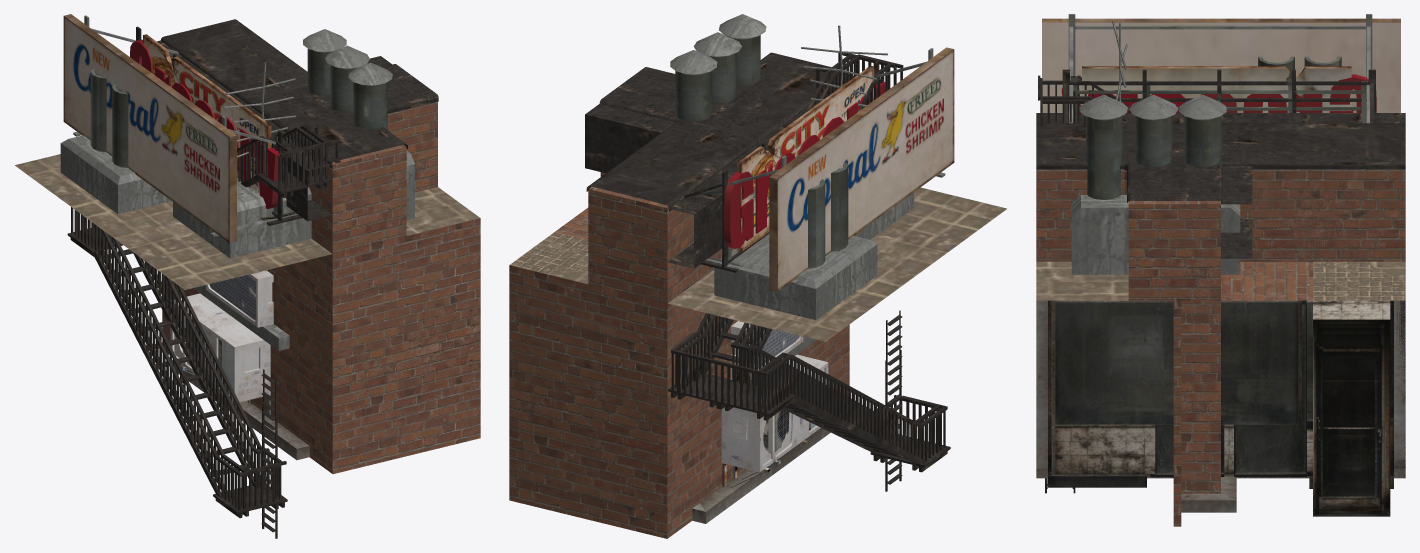
The model's file is building.glb.
The picture shows the model from 3 angles, left to right: view 1: azimuth 30°, elevation 25°; view 2: azimuth 150°, elevation 25°; view 3: azimuth 270°, elevation 25°; orthographic projection. The views are drawn at different scales.
Visible parts, largest first — view 1: roof_corner_brandmauer, roof_wall_0, first_floor_acc_0, stairs_main_floor, roof_cap, roof_corner, stairs_last_floor, roof_acc_1, roof_acc_0, roof_acc_2, aircond_0, first_floor_acc_2 (+9 smaller); view 2: roof_corner_brandmauer_right, first_floor_acc_0, stairs_main_floor, roof_cap, roof_wall_0, roof_acc_1, stairs_last_floor, first_floor_corner_brandmauer_right, roof_acc_0, first_floor_acc_2, first_floor_corner, first_floor_acc_1 (+9 smaller); view 3: first_floor_3, roof_wall_0, first_floor_acc_0, roof_corner_brandmauer_right, roof_acc_0, first_floor_corner, roof_corner, first_floor_0, first_floor_acc_2, first_floor_1, first_floor_acc_1, roof_corner_brandmauer (+7 smaller).
Part boxes in pixels (x1,y1,x2,y2): roof_corner_brandmauer: (247, 85, 480, 473); roof_wall_0: (160, 19, 405, 473); first_floor_acc_0: (63, 14, 311, 243); stairs_main_floor: (67, 127, 325, 518); roof_cap: (15, 154, 332, 289); roof_corner: (332, 64, 479, 236); stairs_last_floor: (77, 124, 341, 516); roof_acc_1: (60, 68, 171, 214); roof_acc_0: (303, 29, 414, 219); roof_acc_2: (173, 62, 311, 258); aircond_0: (182, 305, 270, 418); first_floor_acc_2: (140, 34, 307, 220); roof_corner_brandmauer_right: (509, 120, 758, 538); first_floor_acc_0: (687, 47, 954, 292); stairs_main_floor: (675, 54, 950, 472); roof_cap: (668, 187, 1006, 341); roof_wall_0: (588, 52, 849, 476); roof_acc_1: (714, 162, 877, 319); stairs_last_floor: (668, 53, 943, 470); first_floor_corner_brandmauer_right: (667, 146, 764, 523); roof_acc_0: (670, 14, 766, 121); first_floor_acc_2: (693, 65, 875, 266); first_floor_corner: (585, 75, 853, 480); first_floor_acc_1: (684, 59, 885, 272); first_floor_3: (1036, 300, 1405, 516); roof_wall_0: (1036, 123, 1405, 261); first_floor_acc_0: (1042, 14, 1400, 123); roof_corner_brandmauer_right: (1221, 123, 1405, 300); roof_acc_0: (1071, 94, 1240, 274); first_floor_corner: (1036, 113, 1252, 526); roof_corner: (1036, 161, 1222, 300); first_floor_0: (1048, 300, 1405, 487); first_floor_acc_2: (1070, 66, 1367, 123); first_floor_1: (1036, 300, 1405, 478); first_floor_acc_1: (1061, 69, 1376, 123); roof_corner_brandmauer: (1036, 123, 1185, 300).
Bounding box in the file's own units: 1 × 1.44 × 1.
1 material, 1 textured.
